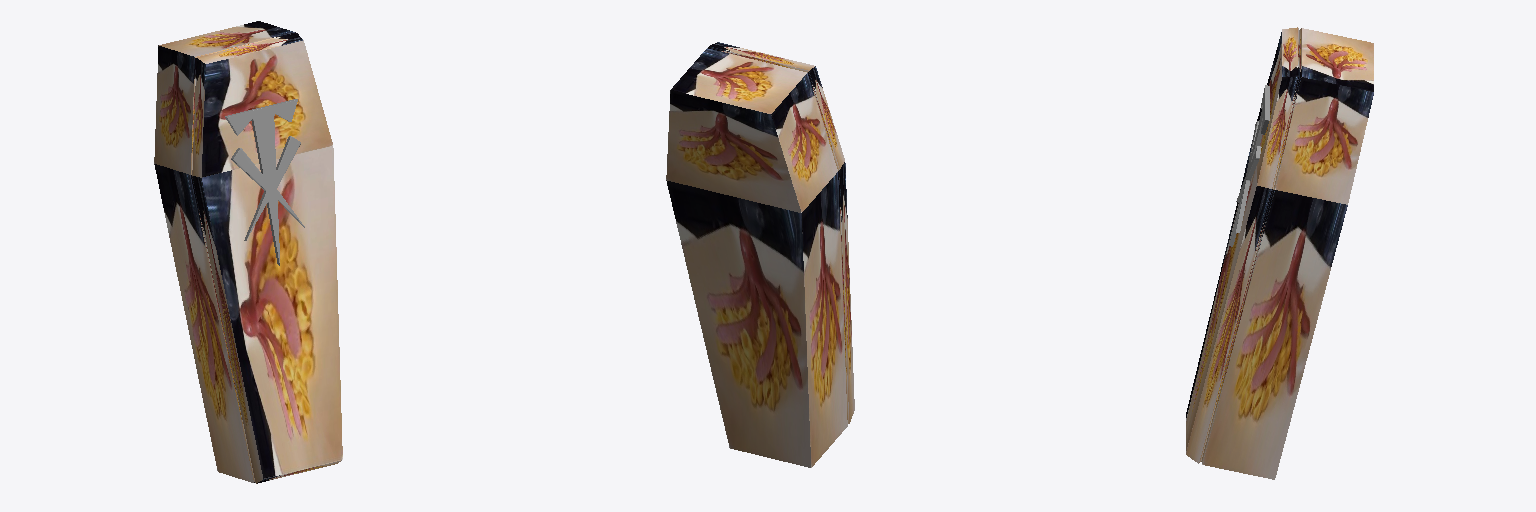
3 views of the same model, side by side, from view 1: azimuth 30°, elevation 25°; view 2: azimuth 150°, elevation 25°; view 3: azimuth 270°, elevation 25° (orthographic).
Parts seen in each view (by area): view 1: coffin_Cube.002_Material.003, symbol_Cube.001; view 2: coffin_Cube.002_Material.003; view 3: coffin_Cube.002_Material.003, symbol_Cube.001.
Part boxes in pixels (bbox=[...]): coffin_Cube.002_Material.003: bbox=[154, 21, 342, 483]; symbol_Cube.001: bbox=[225, 99, 304, 265]; coffin_Cube.002_Material.003: bbox=[666, 42, 854, 467]; coffin_Cube.002_Material.003: bbox=[1186, 27, 1373, 479]; symbol_Cube.001: bbox=[1229, 85, 1269, 246].
Bounding box in the file's own units: 2.69 × 7.75 × 3.25.
2 materials, 1 textured.